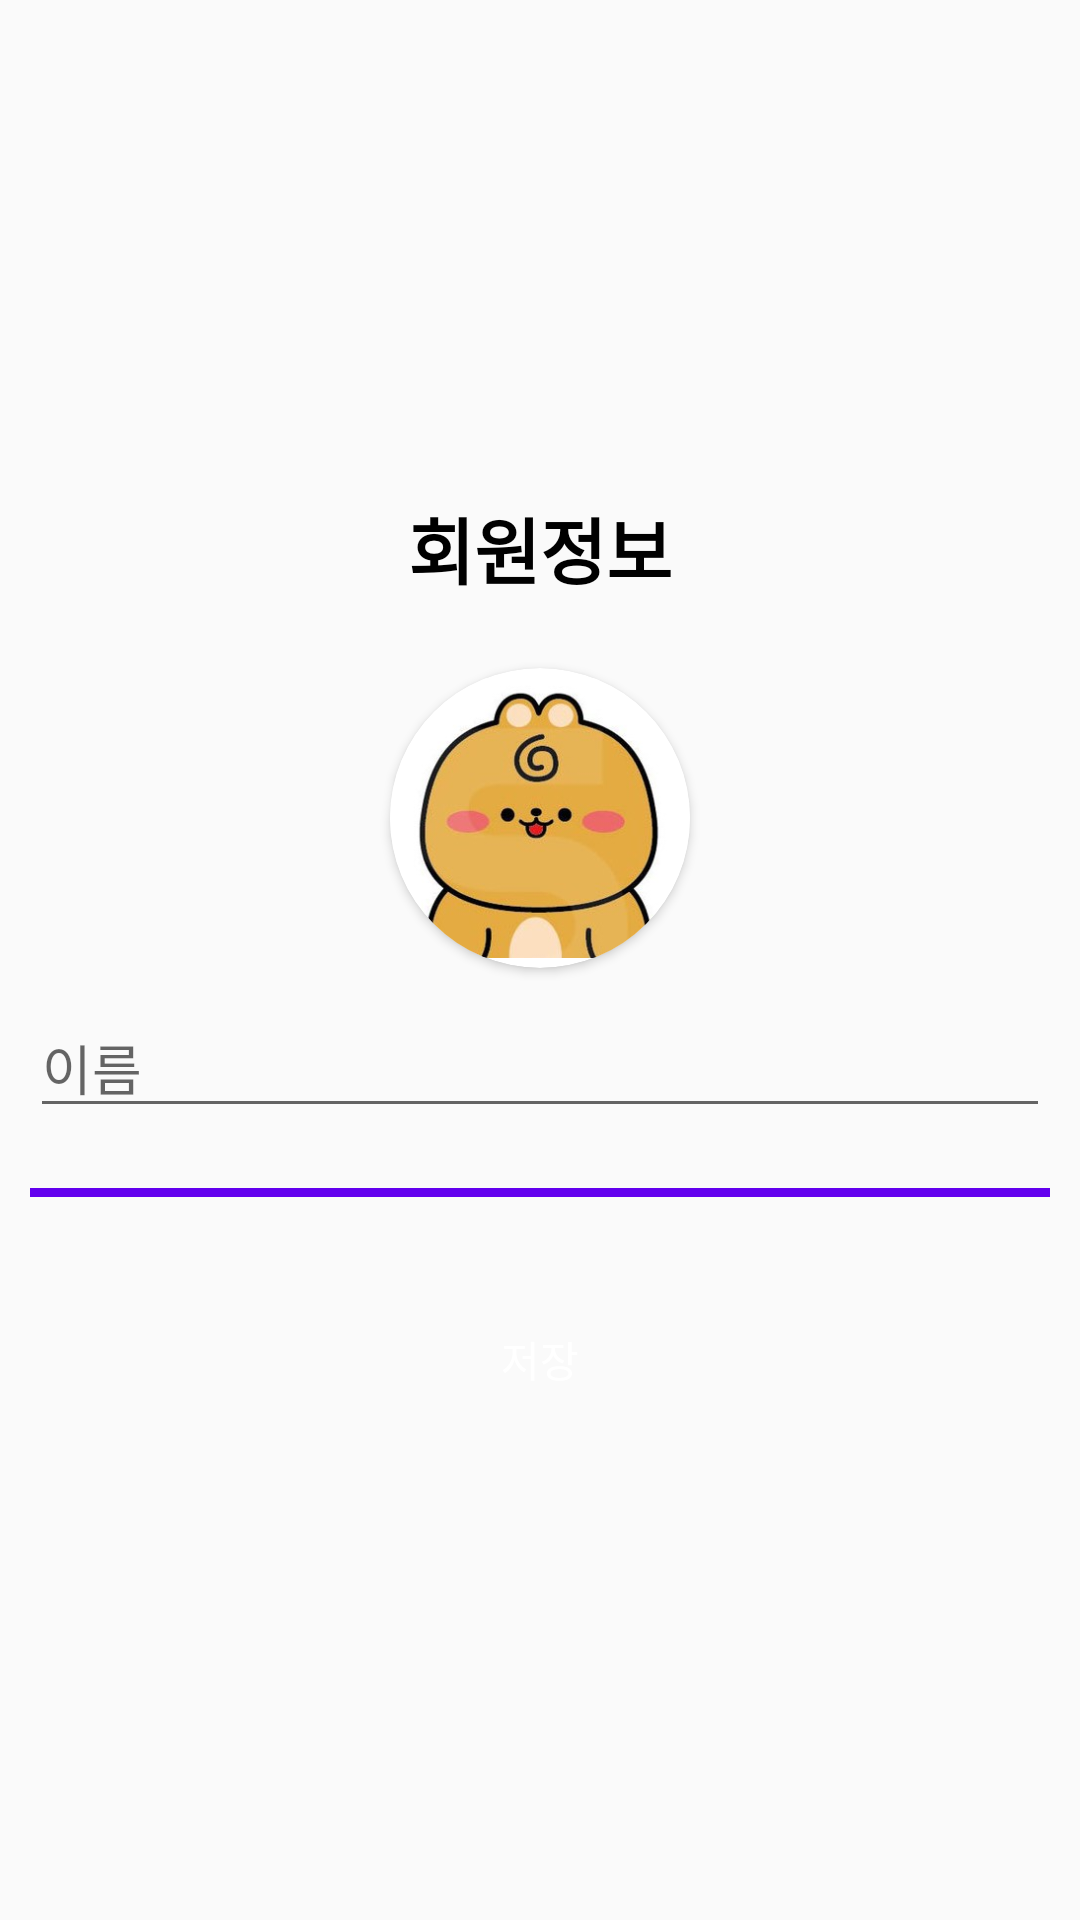

Icon bounding boxes for this 1080x1920 phone screenshot, format (x1, y1, x2, y2):
profile: (396, 693, 684, 968)
